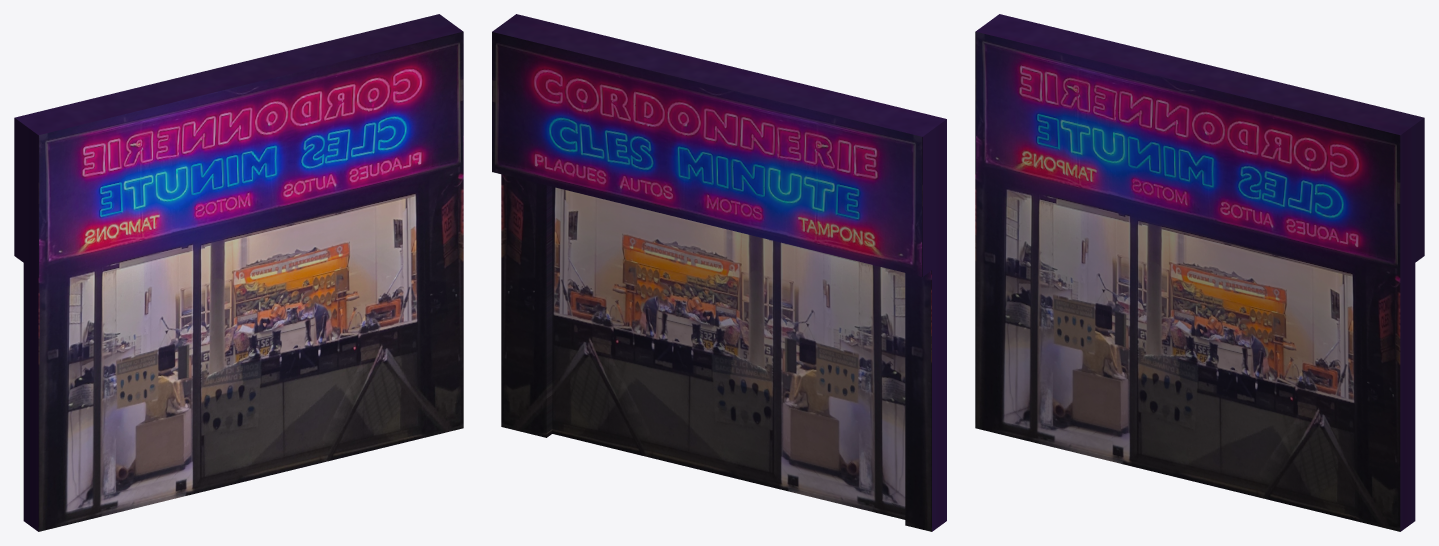
The model's file is Shop2_.fbx.
The picture shows the model from 3 angles, left to right: view 1: azimuth 30°, elevation 25°; view 2: azimuth 150°, elevation 25°; view 3: azimuth 330°, elevation 25°; orthographic projection.
Visible parts, largest first — view 1: Cube; view 2: Cube; view 3: Cube.
Boxes of the visible parts, <box> form: Cube: <box>14,14,463,531</box>; Cube: <box>492,14,946,531</box>; Cube: <box>975,14,1424,531</box>.
Bounding box in the file's own units: 4.6 × 0.451 × 4.1.
Materials: 1 (1 with a texture image).
